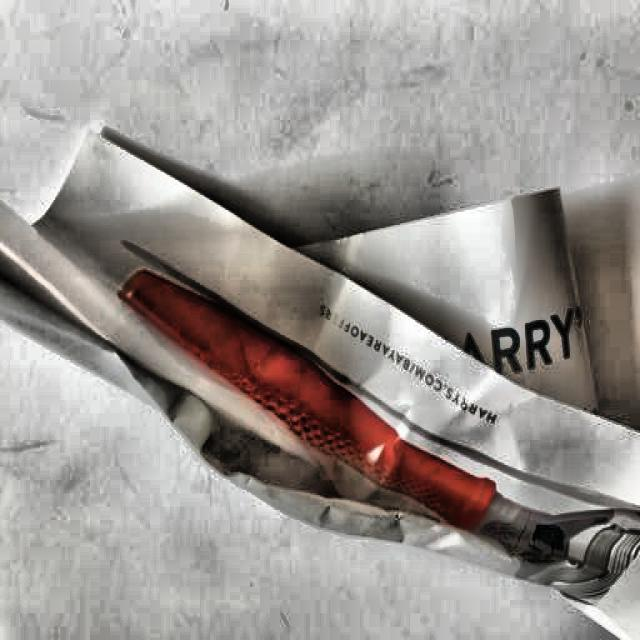Paper: (0, 122, 640, 640)
